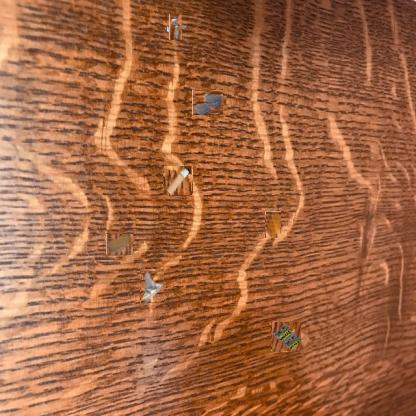dirty: (271, 322, 301, 352), (163, 166, 193, 195), (140, 270, 164, 304), (107, 232, 132, 257), (166, 18, 185, 37)
liquid: (192, 90, 223, 116), (265, 211, 281, 238)
